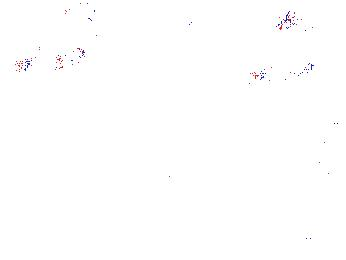X-ray fish: (278, 8, 323, 33), (294, 83, 308, 112)
red belly glassfish: (186, 20, 205, 43)
redtail glassfish: (14, 43, 86, 77), (248, 60, 316, 88)
